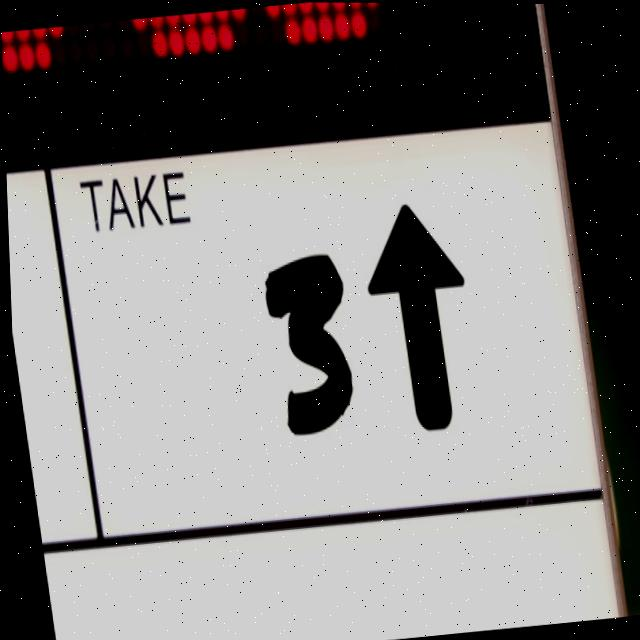Clapperboard: (0, 0, 634, 640)
